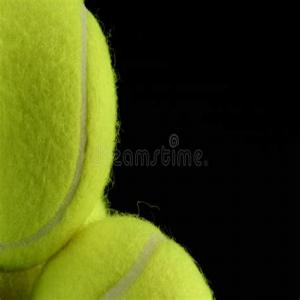Tennis: (29, 210, 215, 300)
